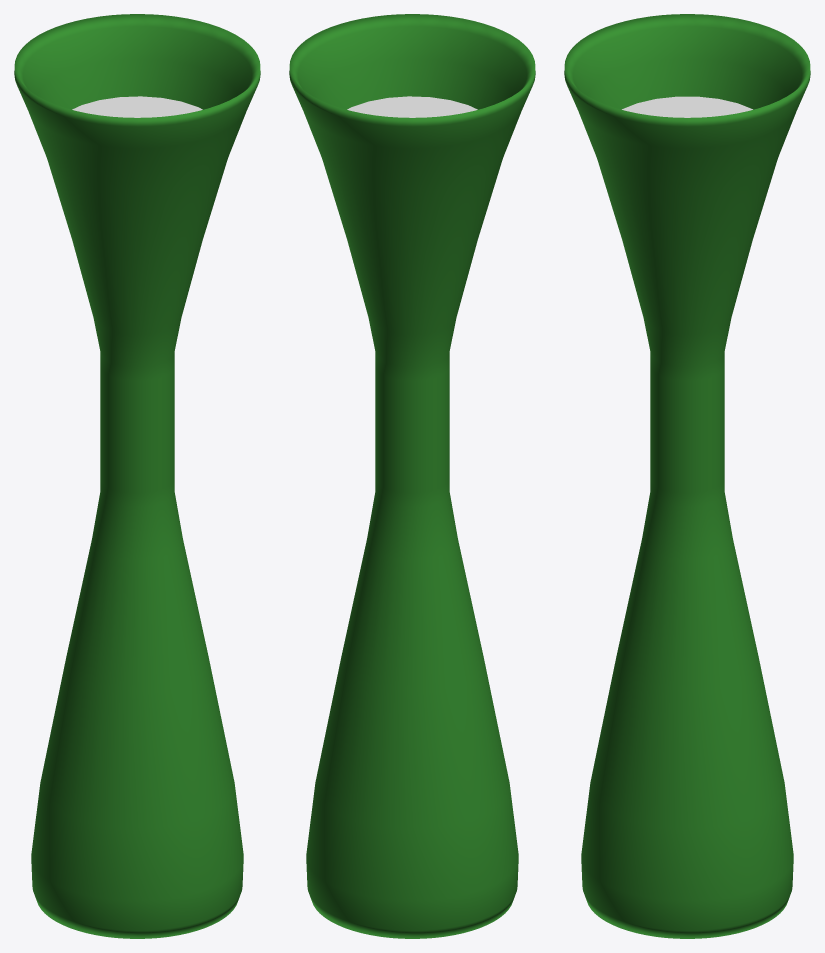
File: Glass_Free.FBX
3 views of the same model, side by side, from view 1: azimuth 30°, elevation 25°; view 2: azimuth 150°, elevation 25°; view 3: azimuth 270°, elevation 25° (orthographic).
Visible parts, largest first — view 1: Tube01, Cylinder01; view 2: Tube01, Cylinder01; view 3: Tube01, Cylinder01.
Boxes of the visible parts, x1,y1,x2,y2 form: Tube01: (14,14,260,938); Cylinder01: (72,96,202,117); Tube01: (289,14,535,938); Cylinder01: (347,96,477,117); Tube01: (564,14,810,938); Cylinder01: (622,96,752,117).
Size of the model in its own units: 227 by 844 by 227.
